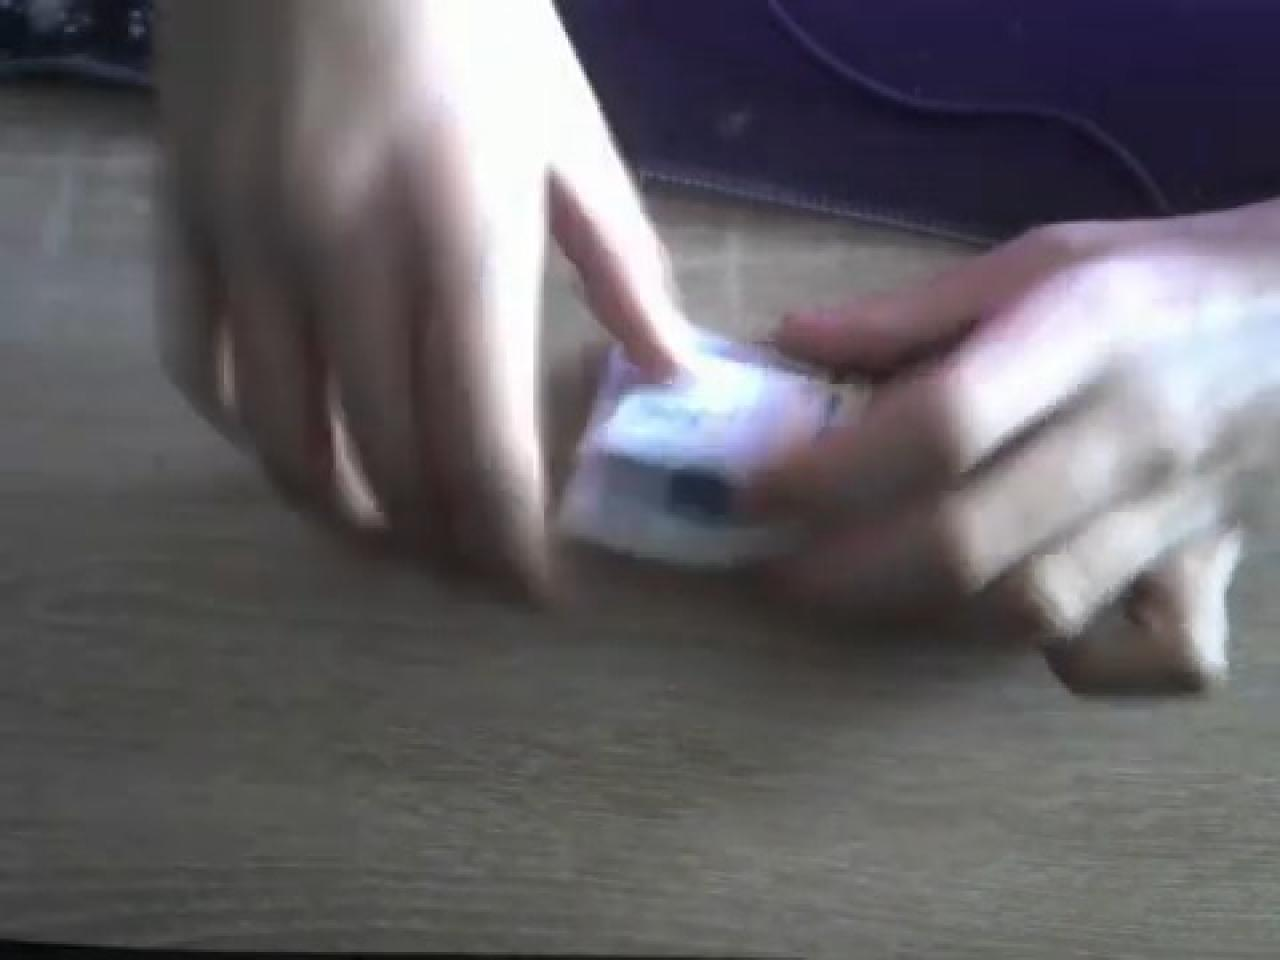20leva: (557, 331, 843, 576)
